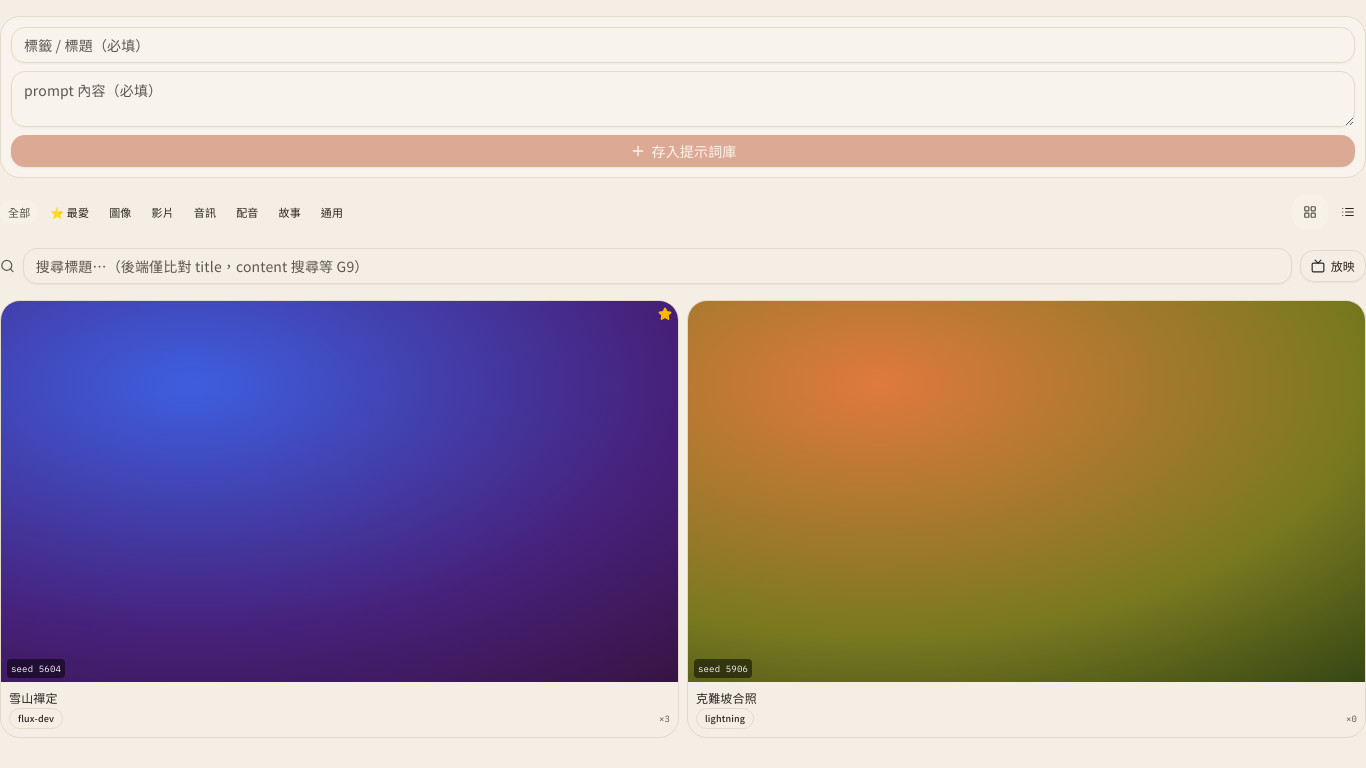
Test: FlowTv 放映皮（W1-4） › 格狀為預設、可切清單；格卡點擊開啟全屏播放器並直顯 seed＋prompt
This screenshot has width=1366, height=768.
Click the button with test id "flowtv-card-1".
click(340, 519)  # box [0,300,679,738]
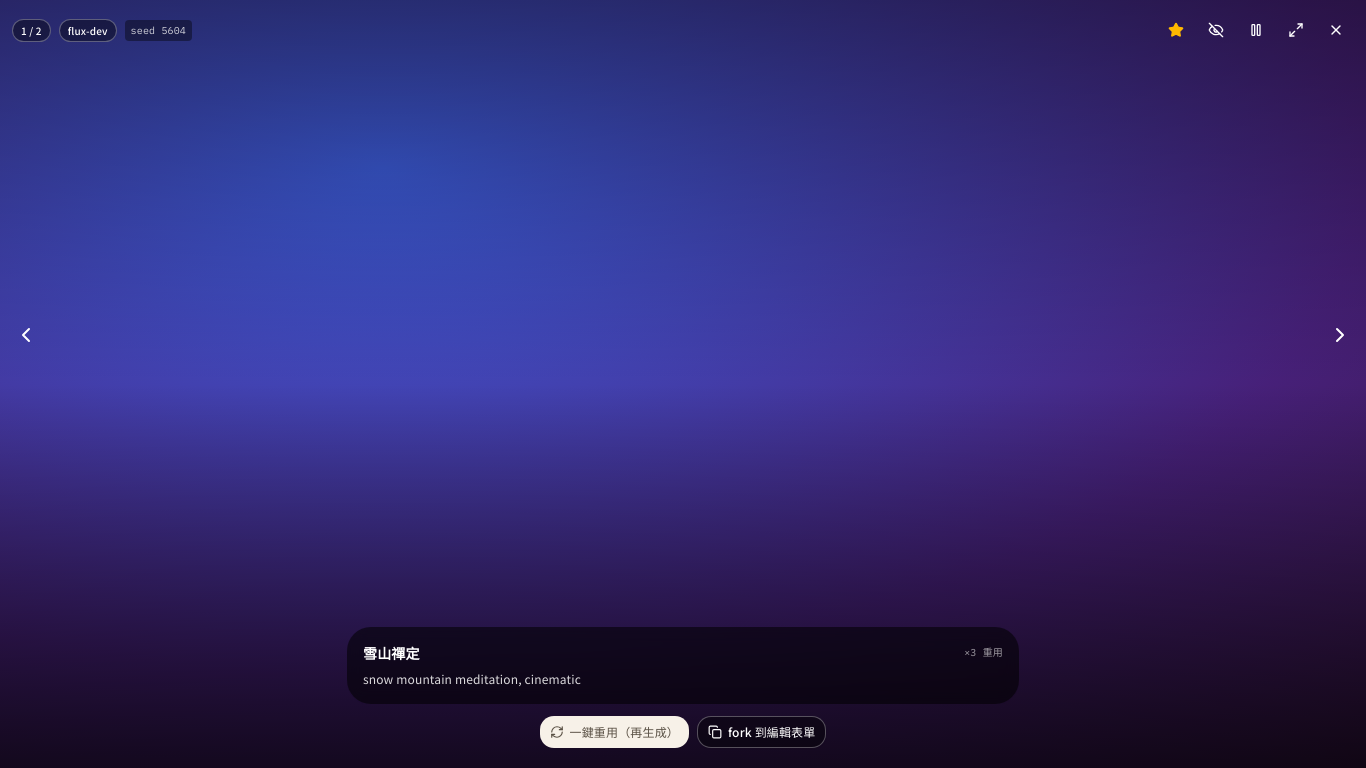
Check: the dialog with test id "flowtv-player" is shown
Check: the element with test id "flowtv-prompt-overlay" shows "snow mountain meditation", box [363,670,581,686]
Check: the dialog with test id "flowtv-player" shows "flux-dev", box [68,22,108,38]
Note: 切清單檢視（先關播放器）
Click the button named "關閉放映".
click(1336, 30)  # box [1318,12,1354,48]
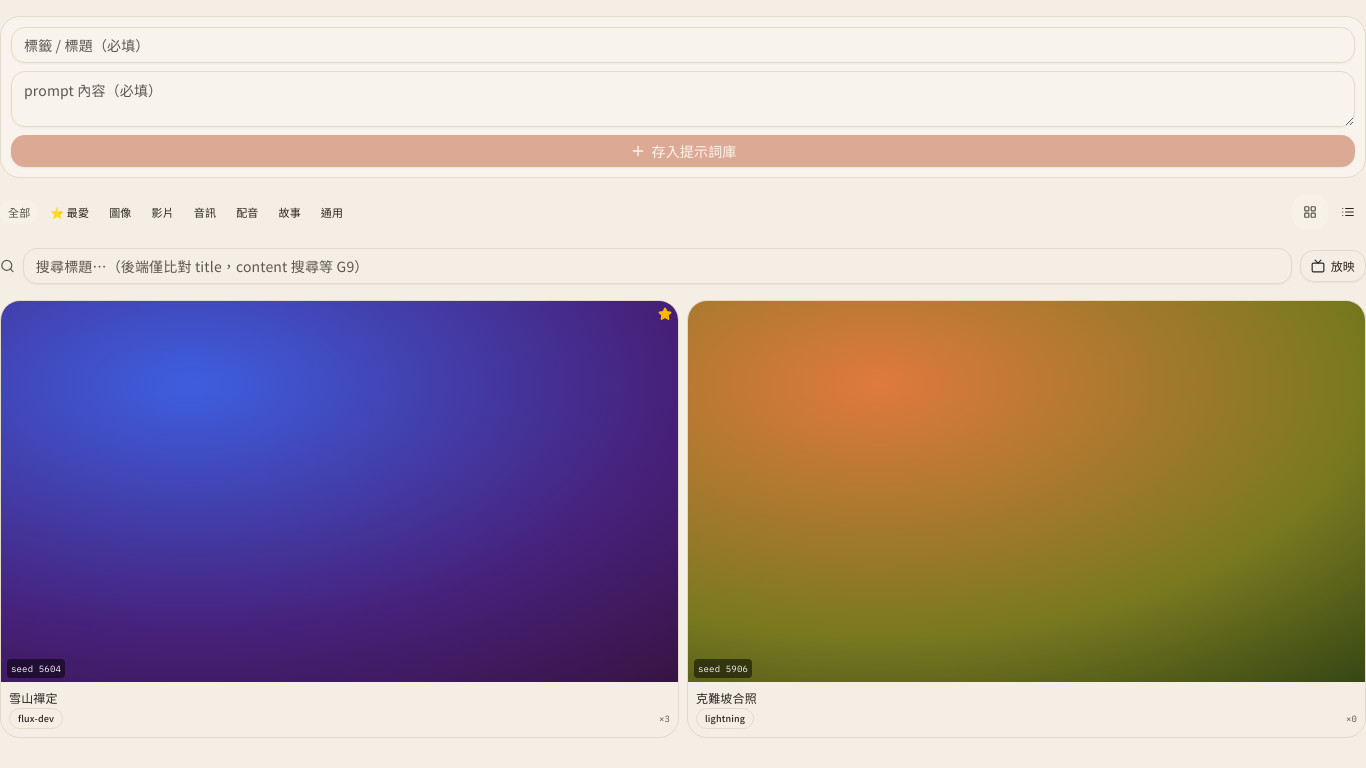
Click the button named "清單檢視".
click(1348, 212)  # box [1330,194,1365,230]
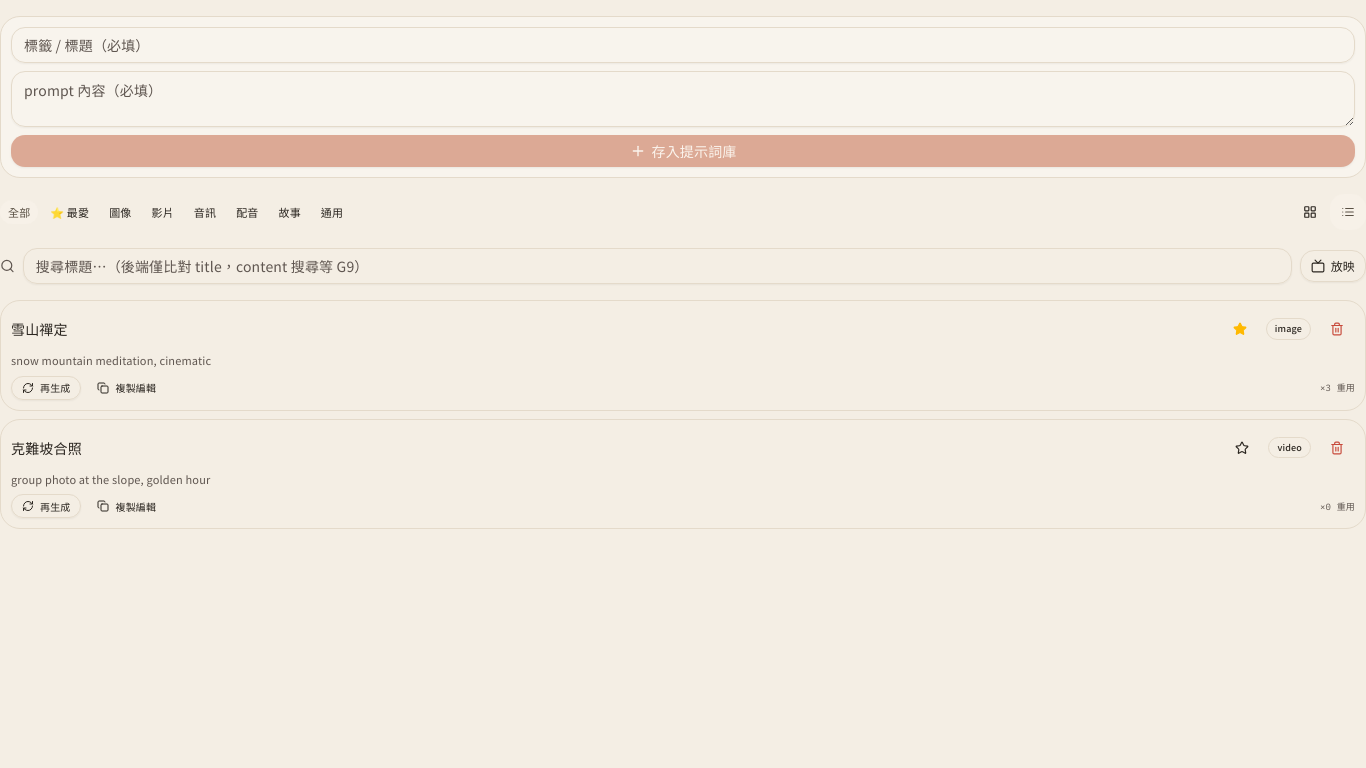
Check: the button with test id "flowtv-card-1" is gone
Check: the text "×3 重用" is shown, box [1320,380,1355,395]
